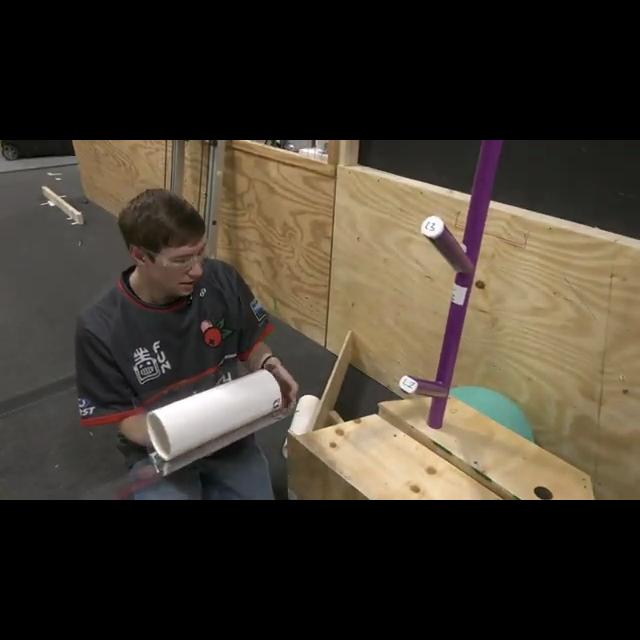CORAL: (146, 366, 282, 462)
